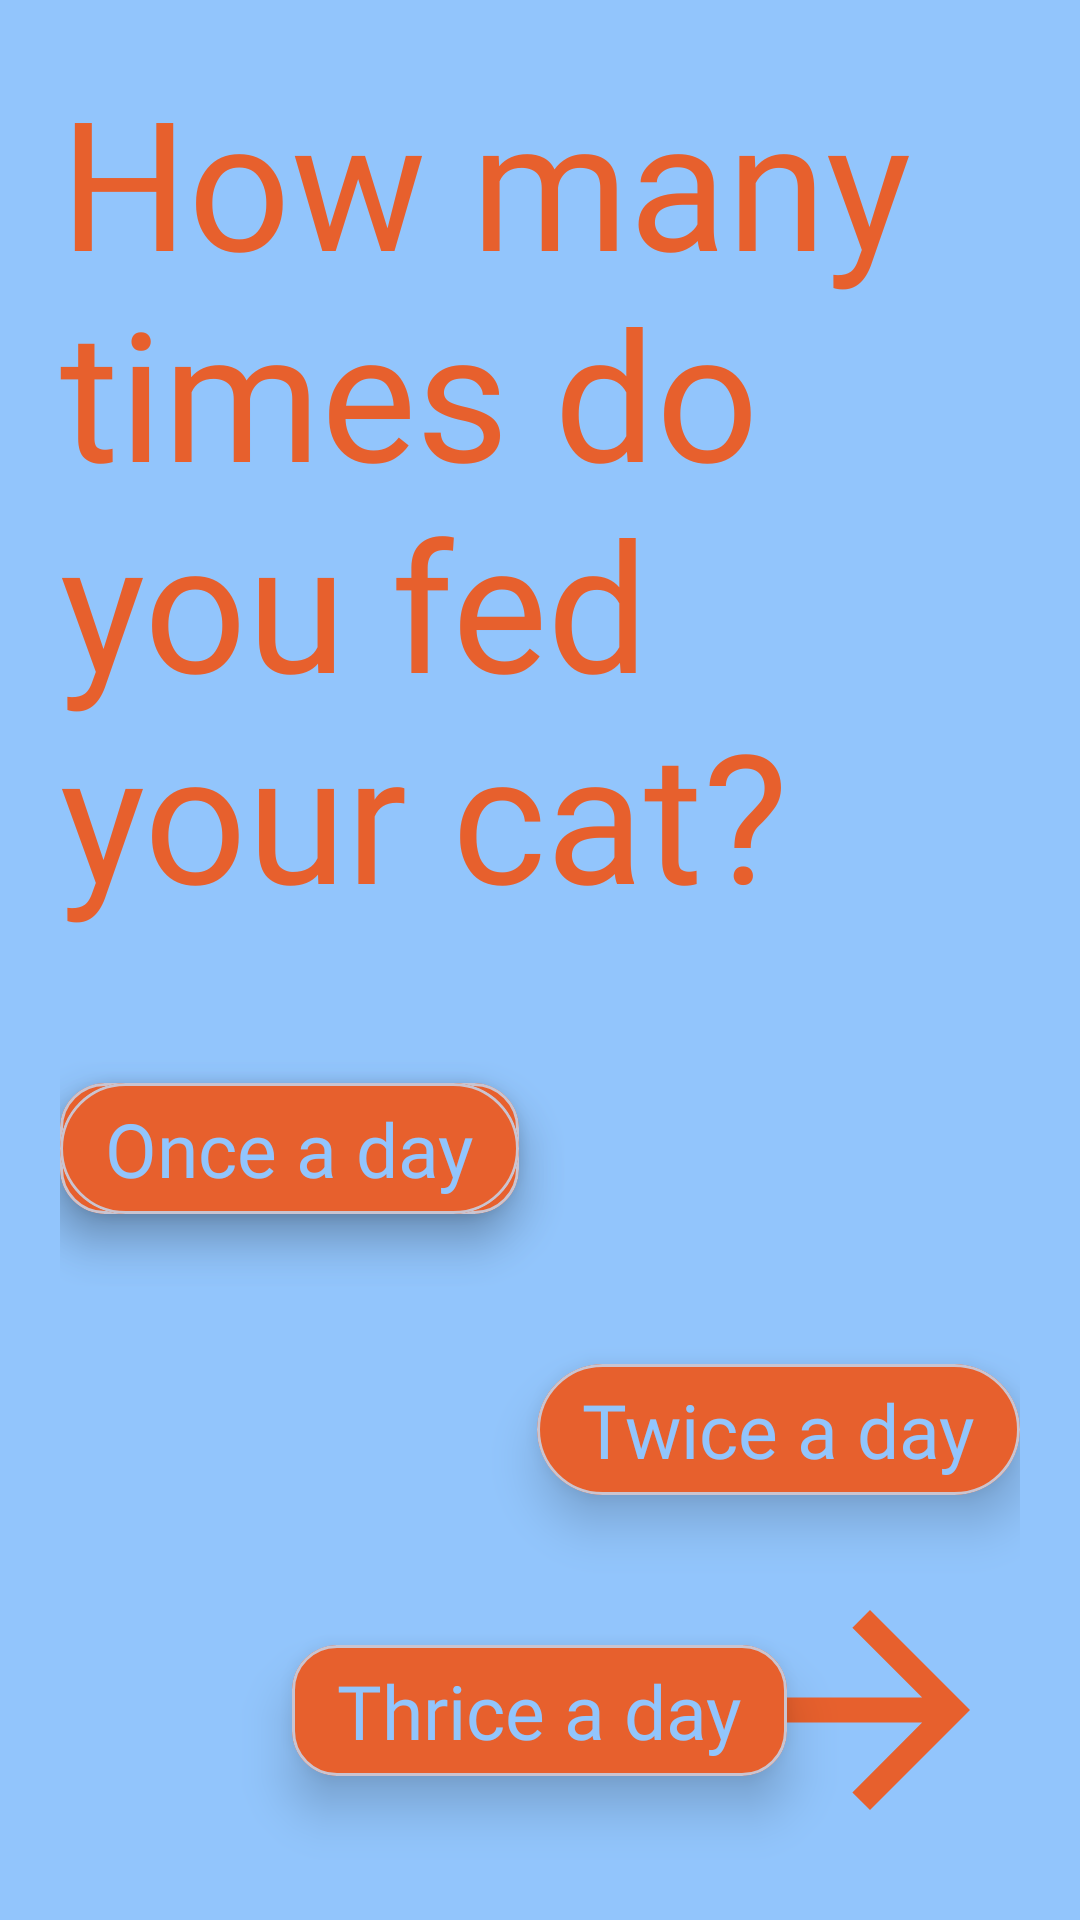

Icons on this 1080px x 1920px Android screen, each with its box as {"x1": x1, "y1": y1, "x2": x2, "y2": y2}:
arrow forward: {"x1": 720, "y1": 1610, "x2": 970, "y2": 1810}
